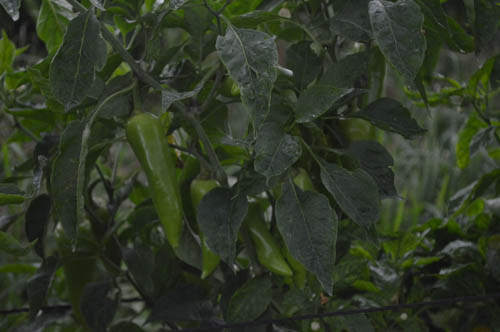ChiliPepper: (126, 116, 180, 247), (244, 215, 294, 275), (189, 179, 218, 277), (272, 172, 309, 196)
